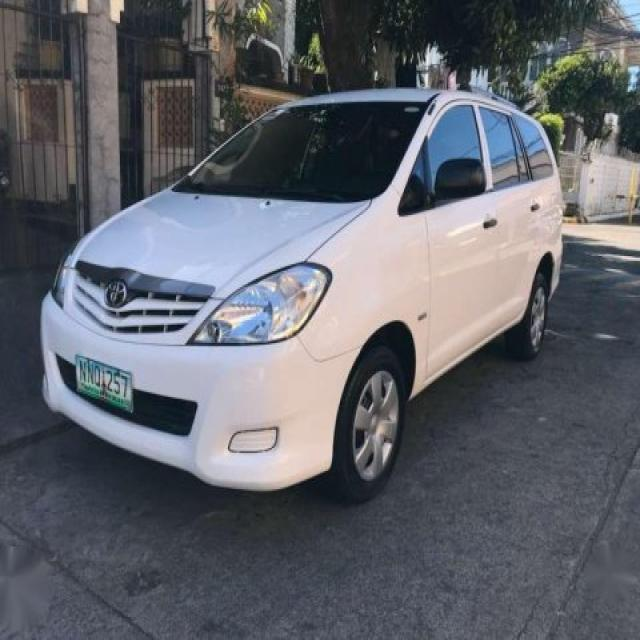light_vehicle: (39, 87, 566, 504)
